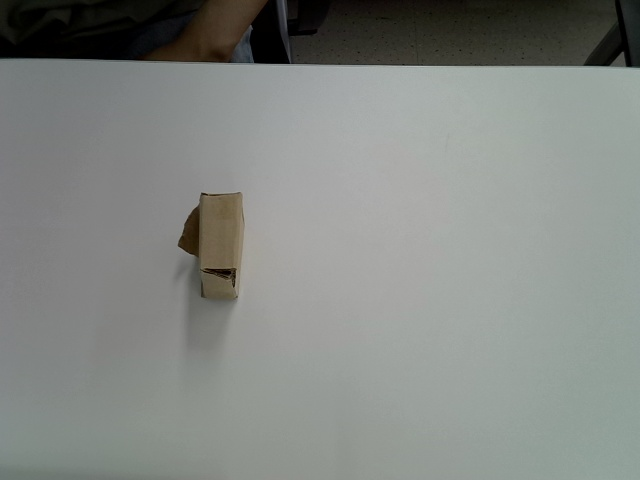defect: (177, 191, 247, 300)
